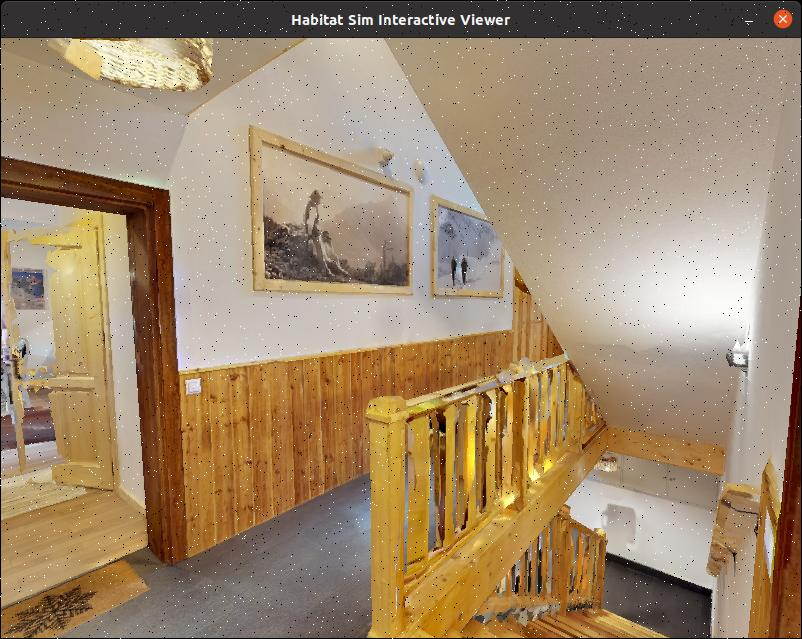door-frame: (0, 161, 184, 627)
stairs: (379, 405, 733, 639)
